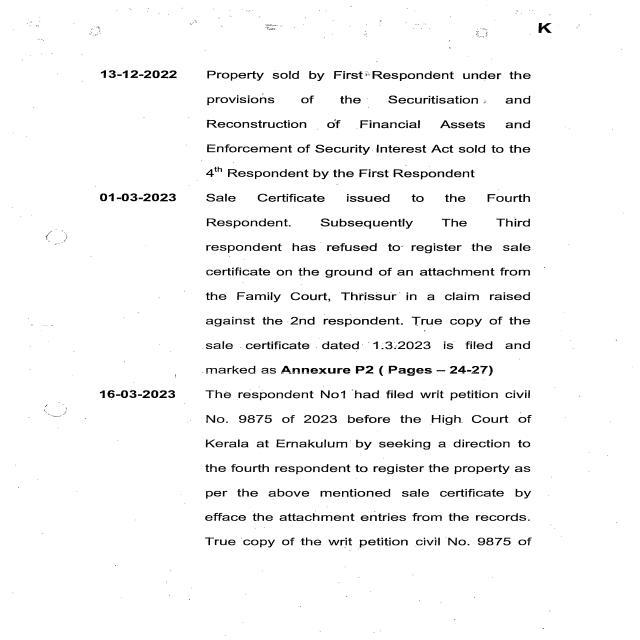page-number: (441, 0, 640, 68)
